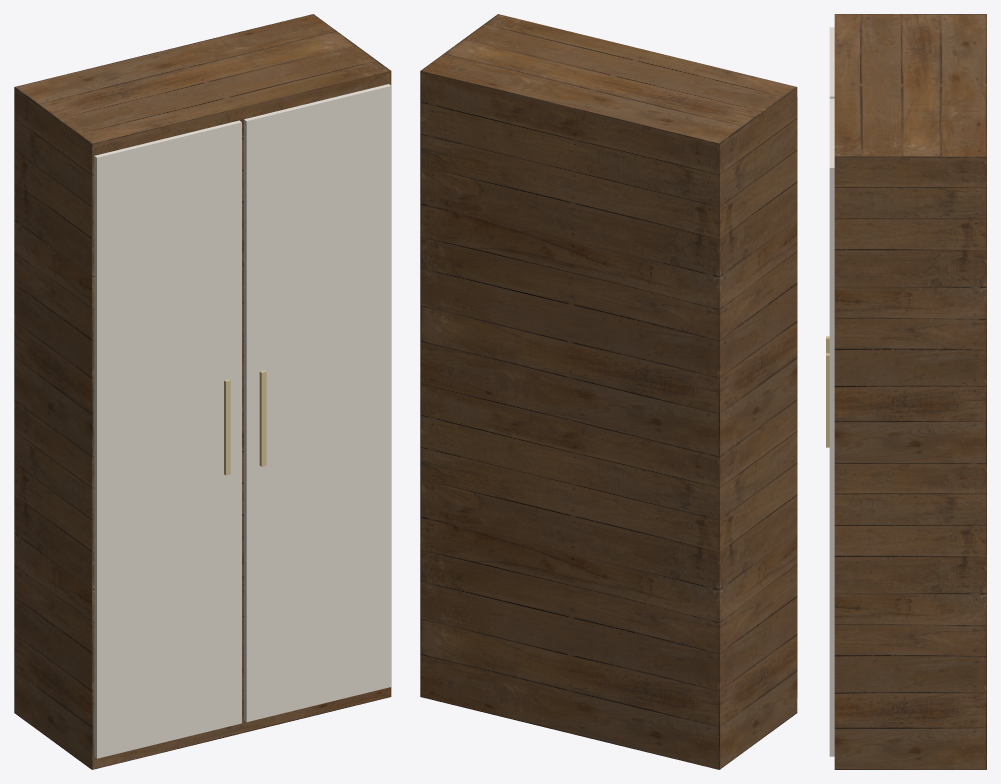
Rendered from armario_alto_100.glb.
3 views of the same model, side by side, from view 1: azimuth 30°, elevation 25°; view 2: azimuth 150°, elevation 25°; view 3: azimuth 270°, elevation 25° (orthographic). The views are drawn at different scales.
Visible parts, largest first — view 1: armario_alto_100; view 2: armario_alto_100; view 3: armario_alto_100.
Part boxes in pixels (bbox=[...]): armario_alto_100: bbox=[14, 14, 391, 769]; armario_alto_100: bbox=[420, 14, 797, 769]; armario_alto_100: bbox=[826, 14, 986, 769].
Bounding box in the file's own units: 1 × 2 × 0.476.
3 materials, 1 textured.
